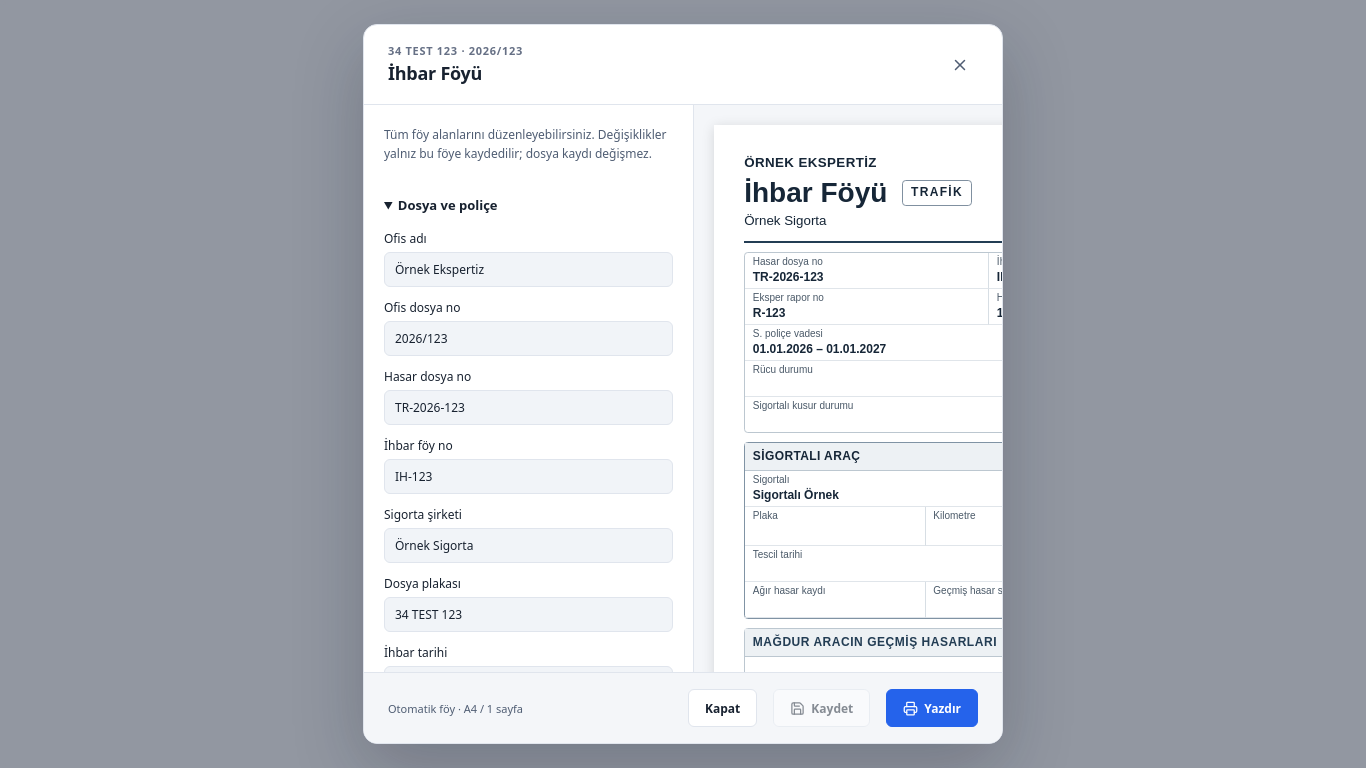
it: İhbar föyü düzenleme ve yazdırma › blocks overflowing content instead of clipping it or printing a second page
Click the button "Yazdır": click(932, 708) [886,689,978,727]
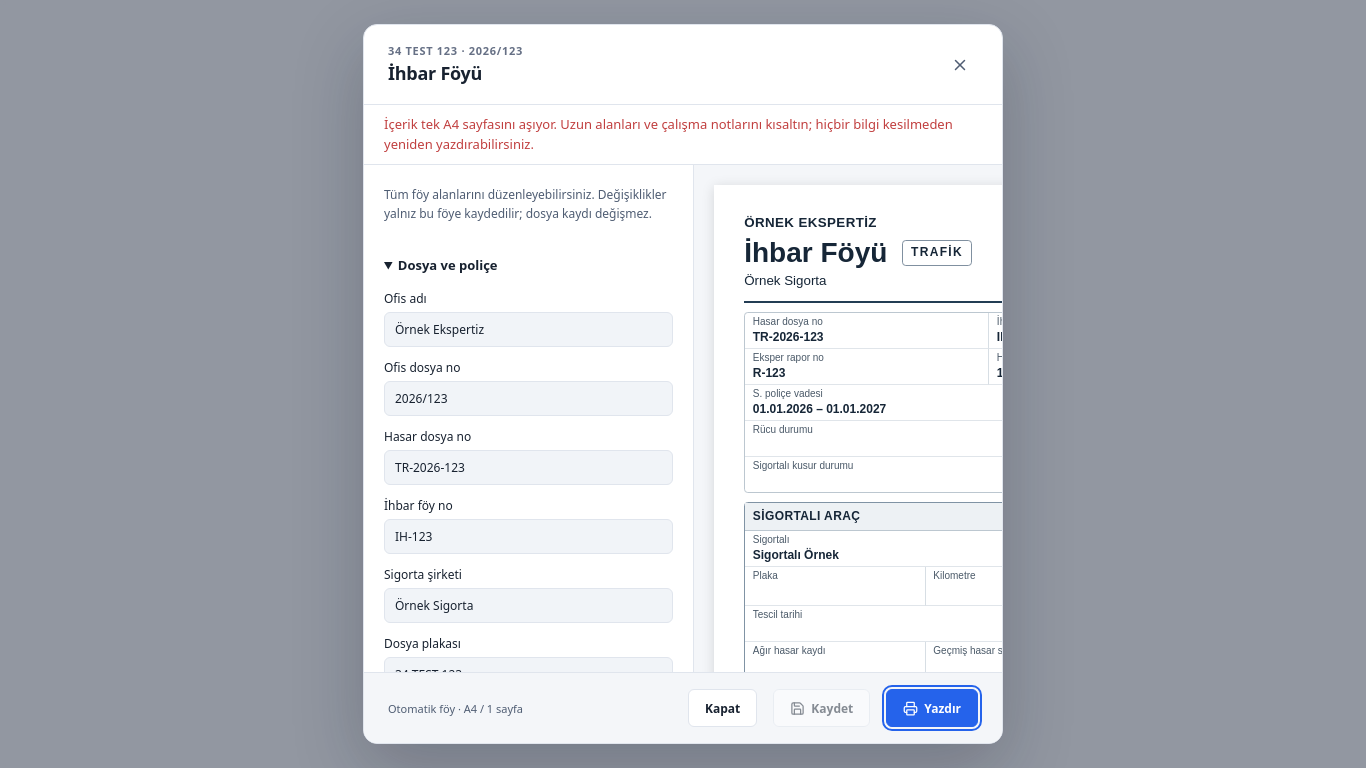
Expected: the message shows "tek A4 sayfasını aşıyor", [384,115,953,153]
